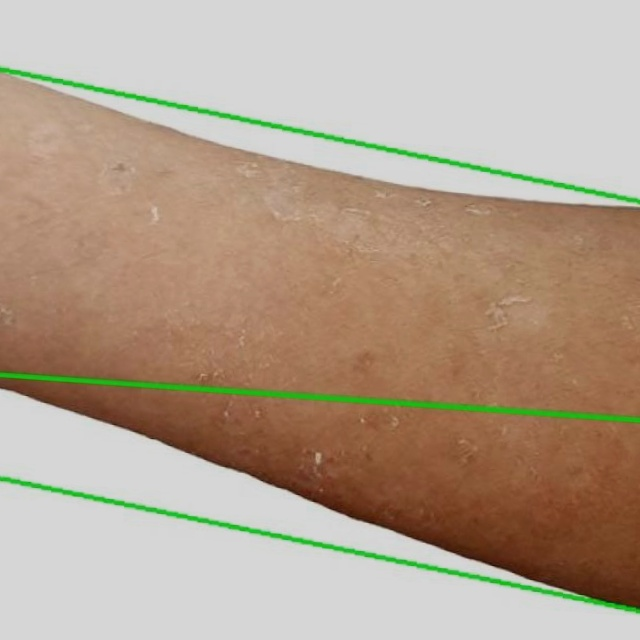Tinea Corporis: (0, 69, 639, 611), (0, 376, 639, 639)
